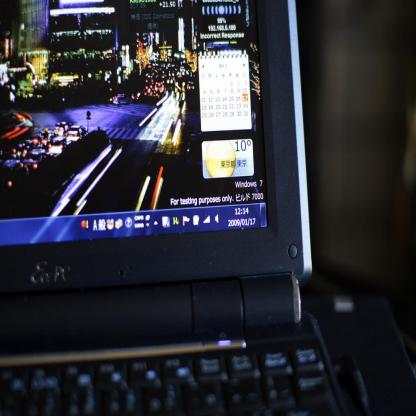board: (0, 0, 347, 416)
